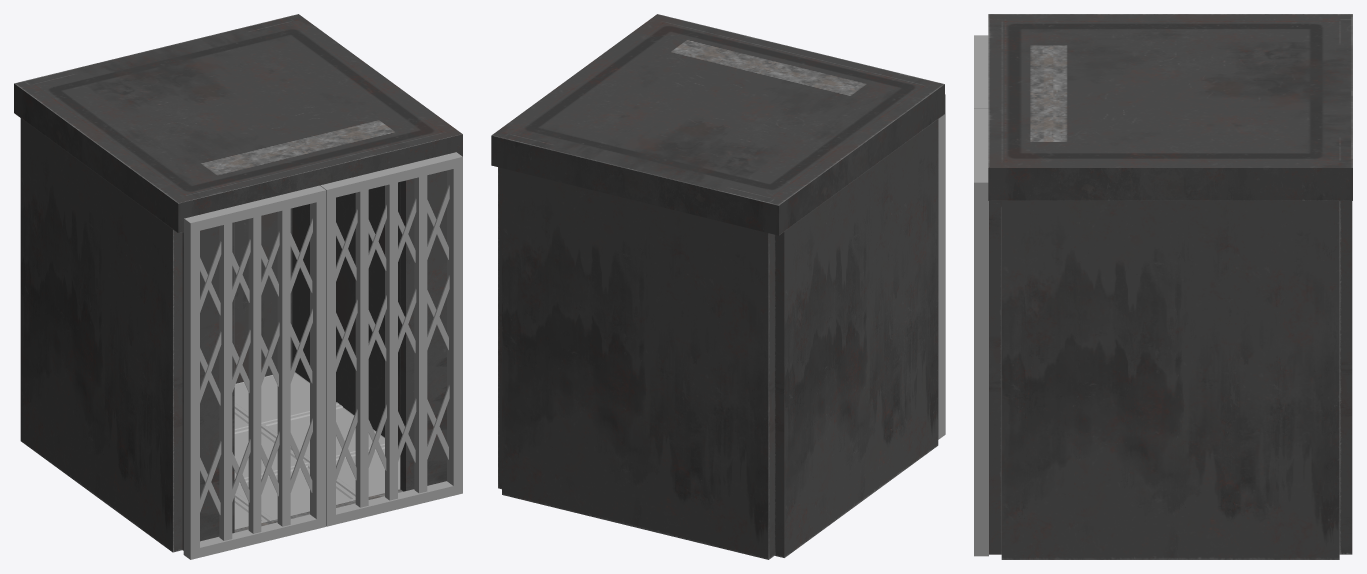
Rendered from SM_dianti.fbx.
3 views of the same model, side by side, from view 1: azimuth 30°, elevation 25°; view 2: azimuth 150°, elevation 25°; view 3: azimuth 270°, elevation 25° (orthographic). The views are drawn at different scales.
Parts seen in each view (by area): view 1: polySurface31, pasted__pCube42, pasted__pCube41, dimian; view 2: polySurface31, pasted__pCube42; view 3: polySurface31, pasted__pCube41, pasted__pCube42.
Boxes of the visible parts, <box> form: polySurface31: <box>14,14,462,552</box>; pasted__pCube42: <box>183,185,325,559</box>; pasted__pCube41: <box>320,152,462,526</box>; dimian: <box>234,372,400,529</box>; polySurface31: <box>491,14,944,559</box>; pasted__pCube42: <box>938,94,945,439</box>; polySurface31: <box>988,14,1352,559</box>; pasted__pCube41: <box>974,109,988,556</box>; pasted__pCube42: <box>974,35,988,108</box>.
Size of the model in its own units: 1051 by 1247 by 1092.
Materials: 2 (1 with a texture image).
